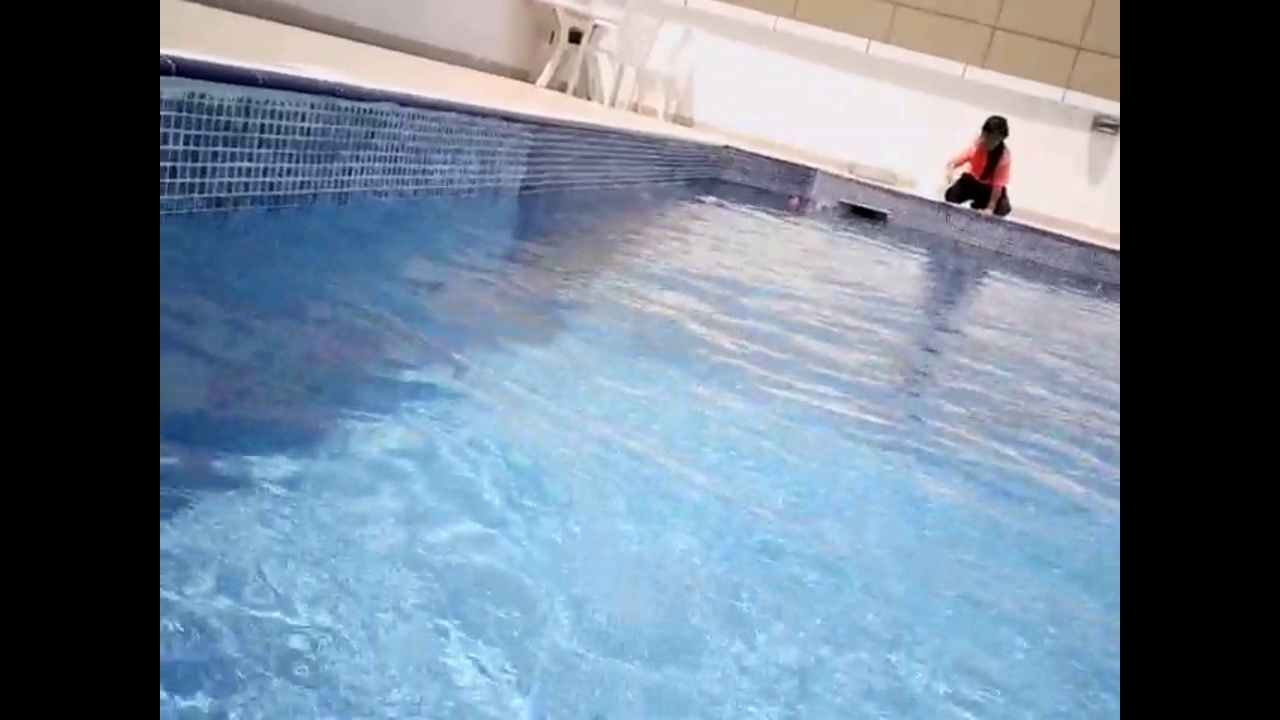debris: (782, 191, 805, 215)
